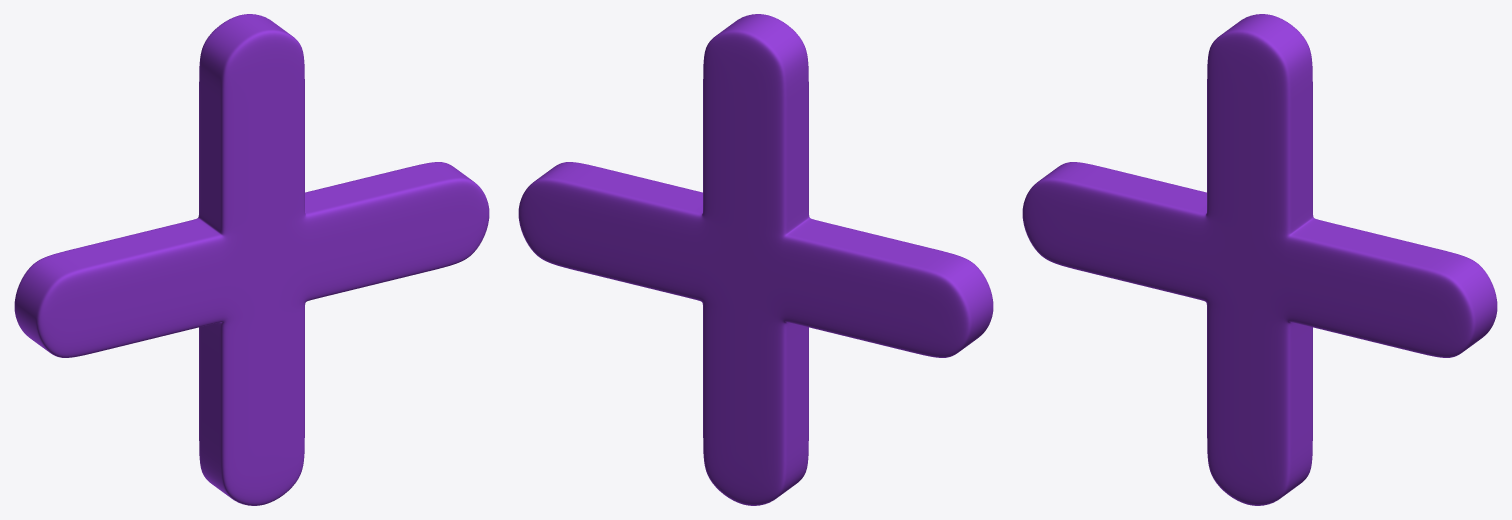
Rendered from plus.fbx.
The picture shows the model from 3 angles, left to right: view 1: azimuth 30°, elevation 25°; view 2: azimuth 150°, elevation 25°; view 3: azimuth 330°, elevation 25°; orthographic projection.
Parts seen in each view (by area): view 1: Plus; view 2: Plus; view 3: Plus.
Part boxes in pixels (x1,y1,x2,y2): Plus: (14, 14, 489, 505); Plus: (518, 14, 993, 505); Plus: (1022, 14, 1497, 505).
Size of the model in its own units: 171 by 171 by 18.19.
